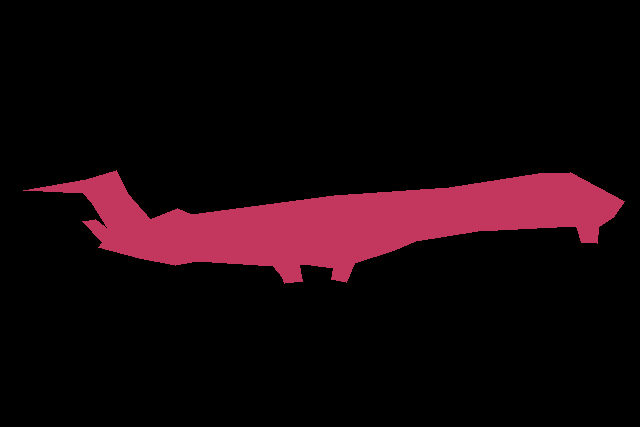Airplane: (23, 170, 625, 283)
